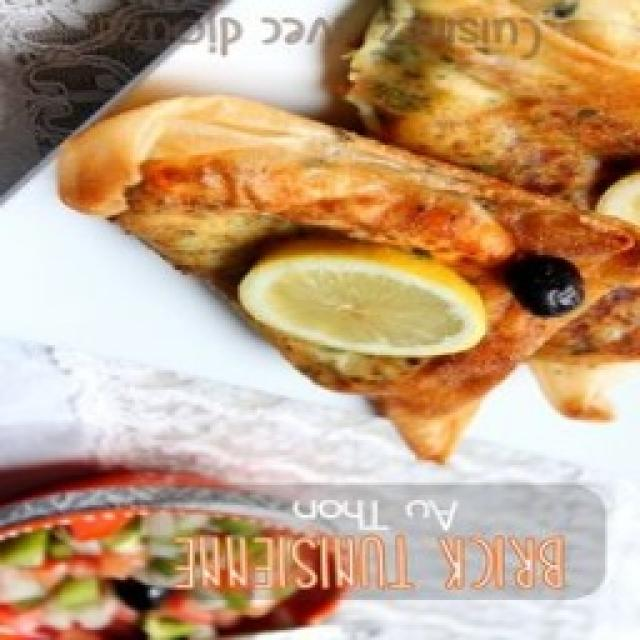Brik: (55, 0, 640, 465)
